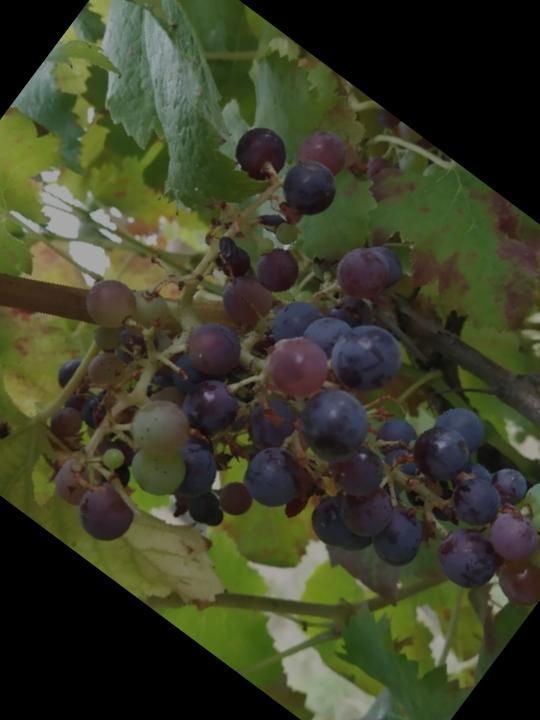grape: (0, 74, 540, 720)
